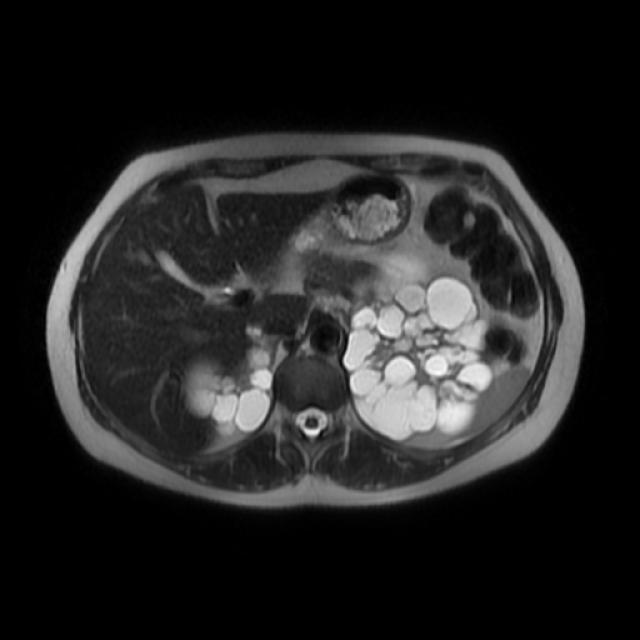sag: (185, 323, 280, 440)
sol: (342, 273, 497, 440)
